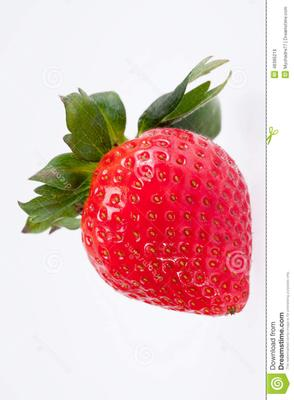strawberry: (0, 0, 294, 400)
